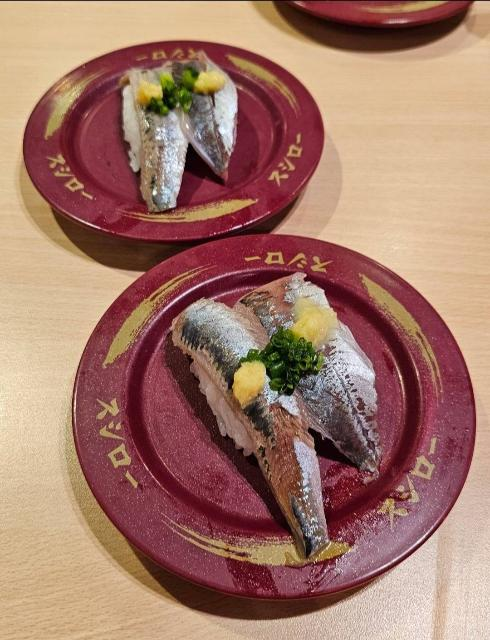janred: (59, 264, 485, 579), (10, 71, 320, 217), (257, 0, 478, 61)
